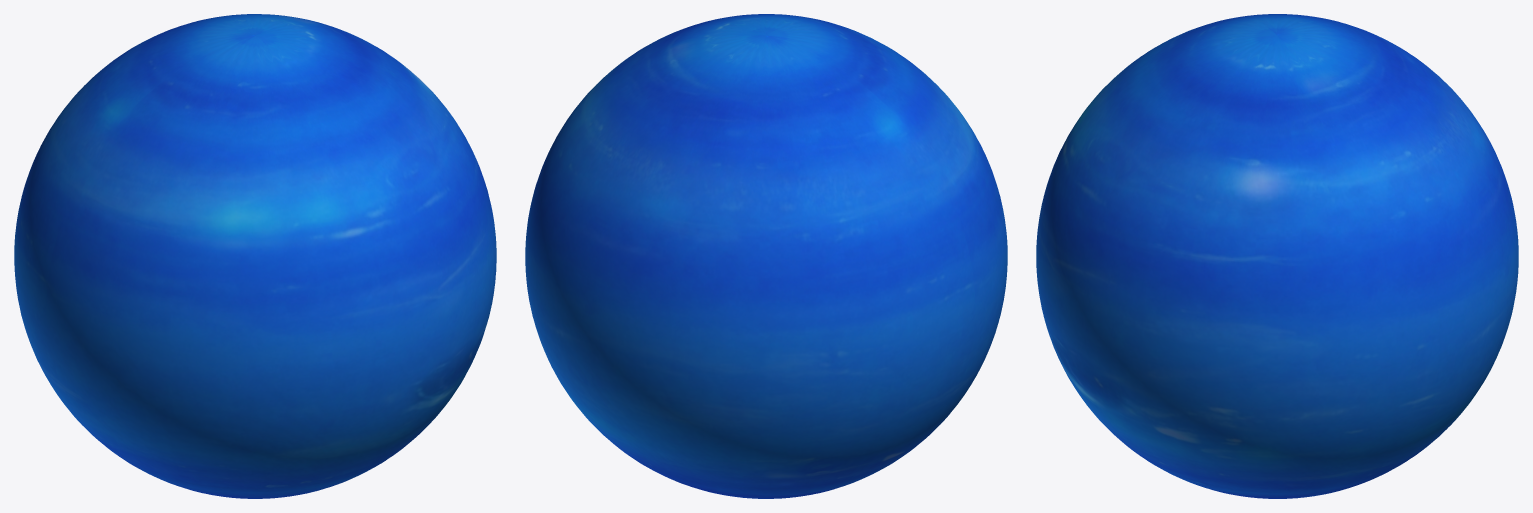
File: neptune.gltf
3 views of the same model, side by side, from view 1: azimuth 30°, elevation 25°; view 2: azimuth 150°, elevation 25°; view 3: azimuth 270°, elevation 25° (orthographic).
Visible parts, largest first — view 1: Sphere_2; view 2: Sphere_2; view 3: Sphere_2.
Boxes of the visible parts, x1,y1,x2,y2 form: Sphere_2: (14,14,496,498); Sphere_2: (525,14,1007,498); Sphere_2: (1036,14,1518,498).
Bounding box in the file's own units: 2.23 × 2.25 × 2.23.
Materials: 1 (1 with a texture image).
